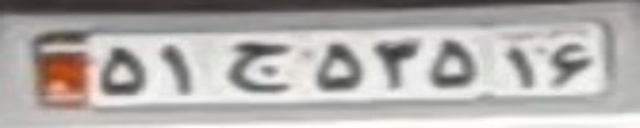1: (160, 43, 192, 96), (506, 46, 534, 88)
3: (374, 37, 414, 89)
5: (98, 47, 147, 96), (316, 42, 362, 89), (430, 40, 474, 87)
6: (546, 40, 592, 87)
jim: (227, 41, 290, 91)
